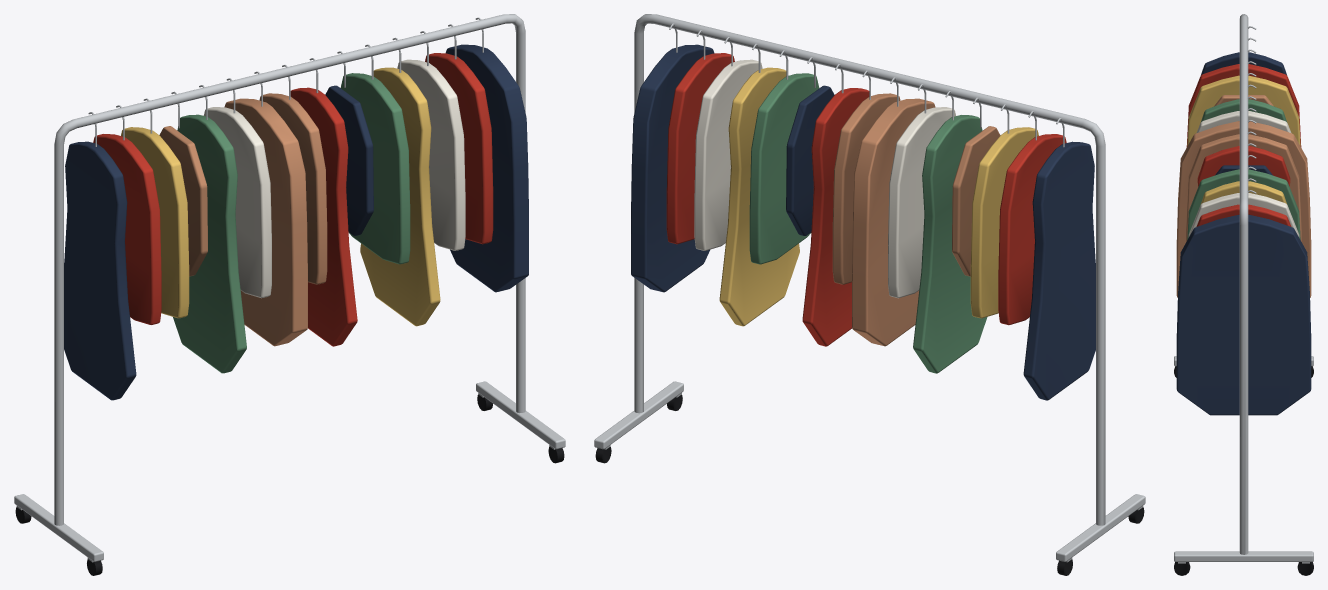
File: clothesRack.glb
The picture shows the model from 3 angles, left to right: view 1: azimuth 30°, elevation 25°; view 2: azimuth 150°, elevation 25°; view 3: azimuth 270°, elevation 25°; orthographic projection. The views are drawn at different scales.
Visible parts, largest first — view 1: rail; view 2: rail; view 3: rail.
Boxes of the visible parts, <box> form: rail: <box>14,14,565,575</box>; rail: <box>594,14,1145,575</box>; rail: <box>1174,14,1313,575</box>.
Bounding box in the file's own units: 1.76 × 1.51 × 0.52.
